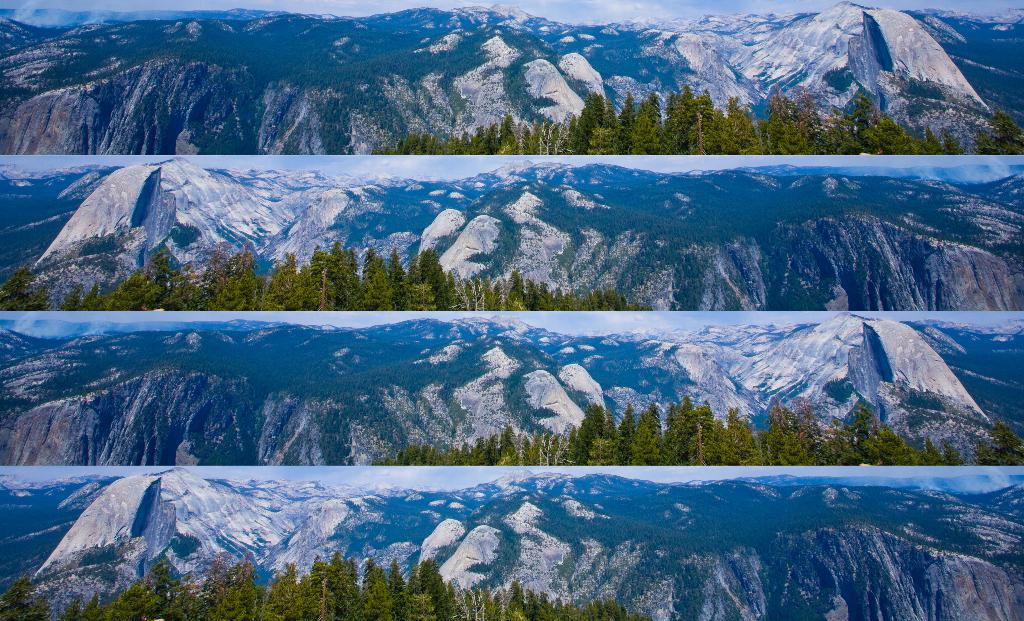Tree: (368, 390, 1024, 467), (371, 78, 1024, 155), (0, 545, 661, 621), (0, 234, 654, 310)
